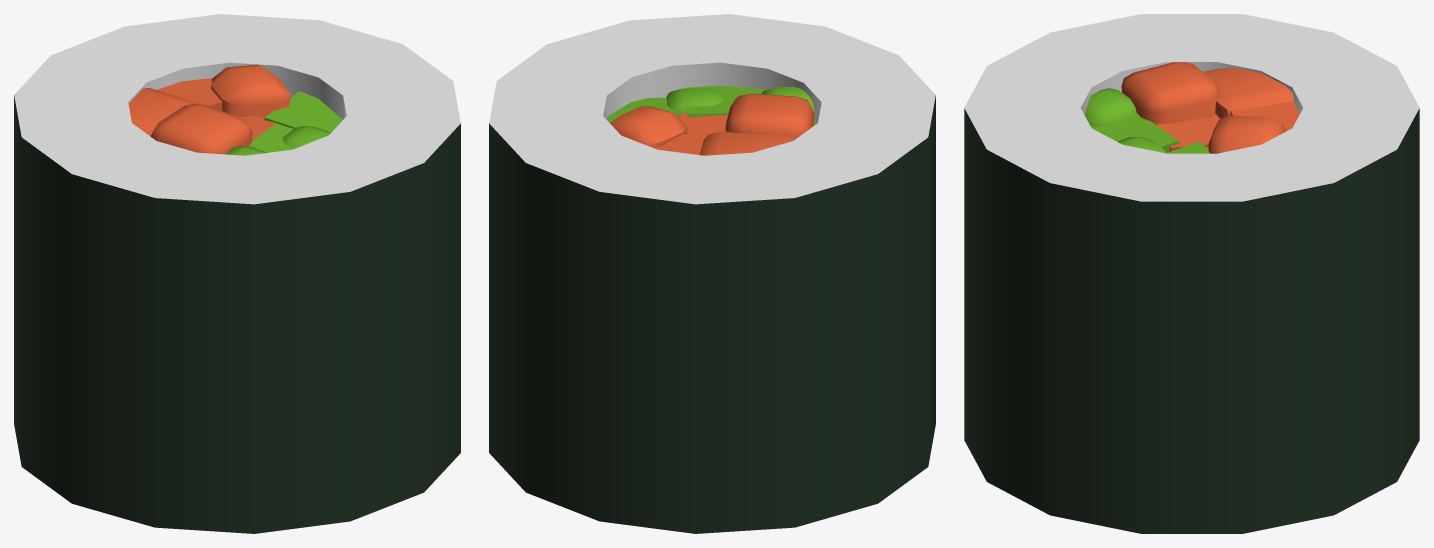
The model's file is Sushi_Regular.fbx.
The picture shows the model from 3 angles, left to right: view 1: azimuth 30°, elevation 25°; view 2: azimuth 150°, elevation 25°; view 3: azimuth 270°, elevation 25°; orthographic projection.
Visible parts, largest first — view 1: Sushi_Regular; view 2: Sushi_Regular; view 3: Sushi_Regular.
Boxes of the visible parts, x1,y1,x2,y2 form: Sushi_Regular: (14, 14, 460, 533); Sushi_Regular: (489, 14, 935, 533); Sushi_Regular: (964, 14, 1419, 533).
Size of the model in its own units: 11.95 by 10.19 by 12.26.
